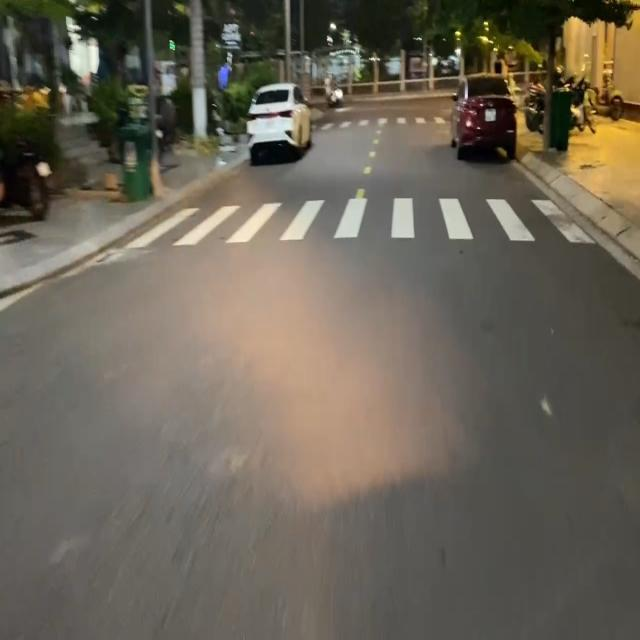walk-crossing: (128, 196, 602, 252)
